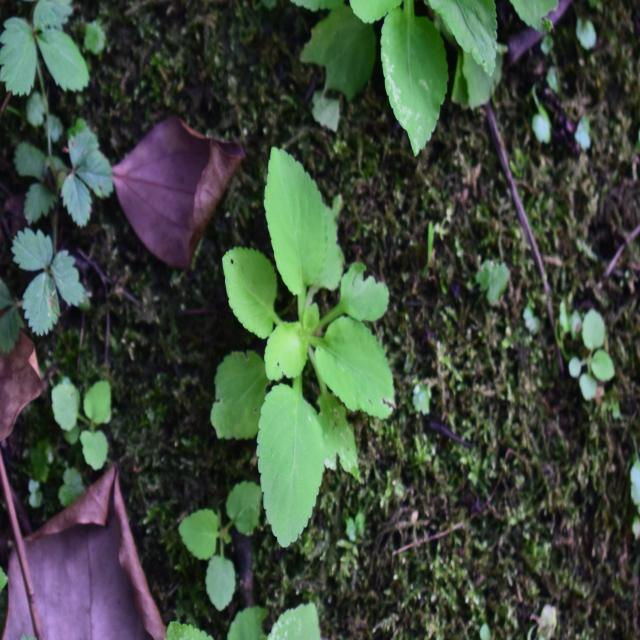Viola: (223, 163, 419, 536)
